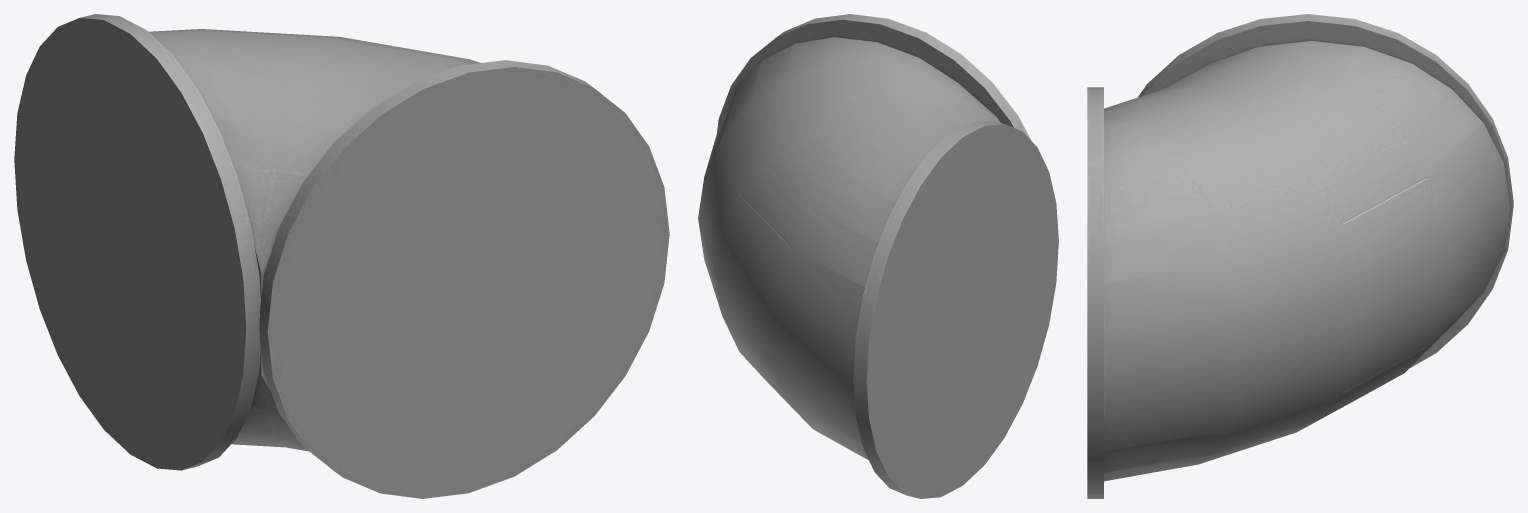
The model's file is jiekou3.obj.
3 renders of one model, left to right at view 1: azimuth 30°, elevation 25°; view 2: azimuth 150°, elevation 25°; view 3: azimuth 270°, elevation 25°, orthographic. The views are drawn at different scales.
Parts seen in each view (by area): view 1: Loft02; view 2: Loft02; view 3: Loft02.
Boxes of the visible parts, box(x1,y1,x2,y2) form: Loft02: box(14, 14, 669, 498); Loft02: box(698, 14, 1058, 498); Loft02: box(1087, 14, 1513, 498).
Size of the model in its own units: 53.18 by 51.5 by 53.31.
